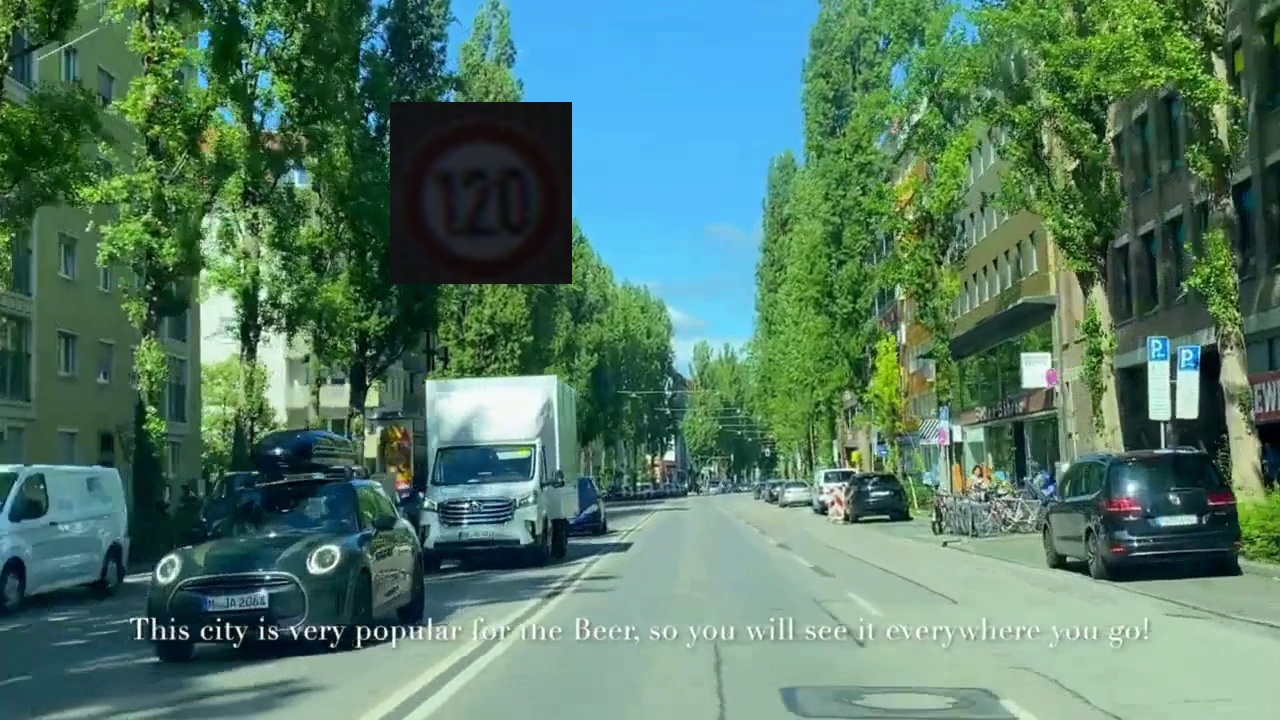Speed 120: (390, 102, 572, 284)
